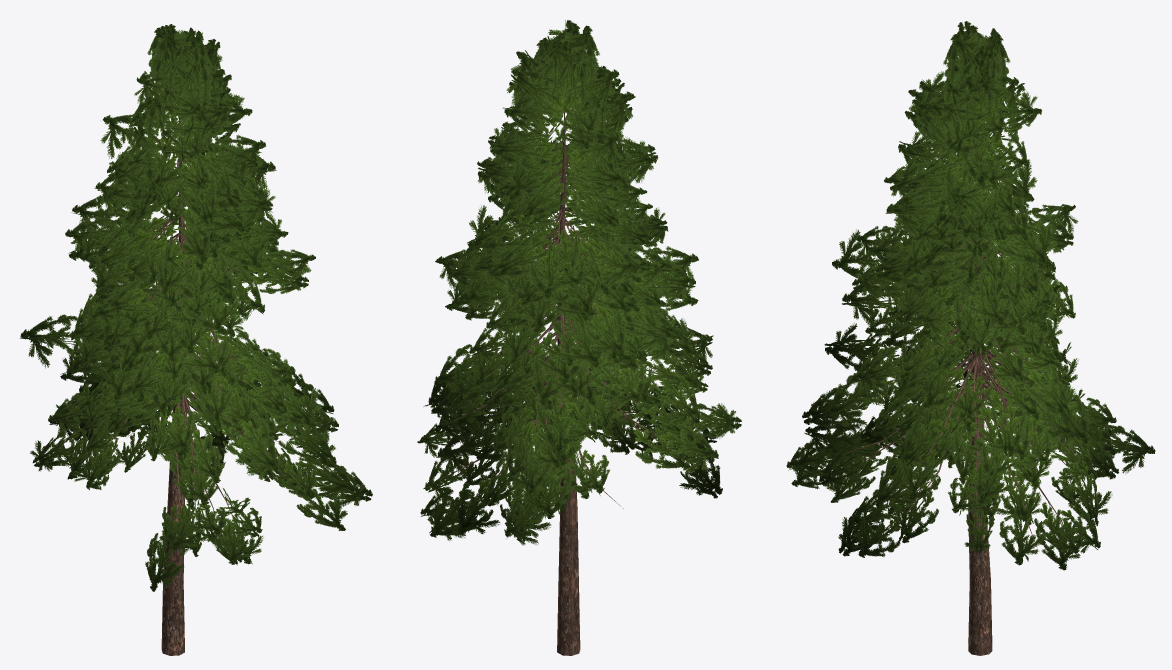
Rendered from ambientcg-pine-tree.glb.
3 renders of one model, left to right at view 1: azimuth 30°, elevation 25°; view 2: azimuth 150°, elevation 25°; view 3: azimuth 270°, elevation 25°, orthographic.
Visible parts, largest first — view 1: pine_tree; view 2: pine_tree; view 3: pine_tree.
Boxes of the visible parts, left/top/right/bottom form: pine_tree: left=20, top=24, right=372, bottom=655; pine_tree: left=417, top=20, right=741, bottom=655; pine_tree: left=786, top=21, right=1155, bottom=655.
Bounding box in the file's own units: 2.93 × 5.78 × 3.16.
2 materials, 2 textured.
